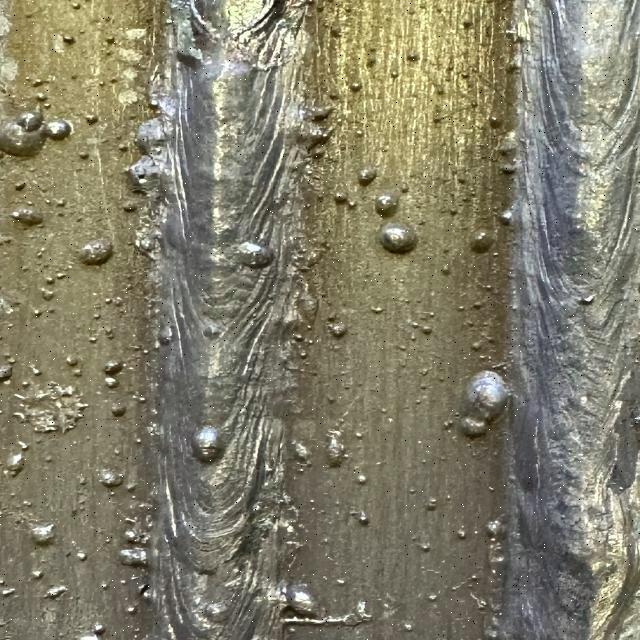Excess Reinforcement: (148, 0, 180, 127), (127, 115, 172, 198), (282, 601, 372, 626), (268, 581, 317, 618), (298, 105, 333, 150), (135, 215, 162, 260), (295, 235, 327, 272), (485, 518, 505, 573), (297, 282, 318, 324), (498, 131, 520, 156)
Spatters: (462, 370, 508, 421), (0, 121, 47, 156), (378, 222, 418, 254), (192, 425, 223, 462), (237, 241, 273, 269), (78, 239, 113, 265), (327, 430, 347, 468), (458, 416, 488, 438), (43, 119, 73, 140), (375, 191, 398, 218), (12, 205, 43, 225), (15, 110, 43, 131), (470, 229, 495, 252), (118, 548, 148, 567), (30, 524, 55, 545), (98, 469, 125, 487), (5, 451, 23, 476), (358, 166, 377, 186), (65, 355, 83, 376), (123, 529, 150, 543), (203, 321, 223, 339), (294, 442, 312, 461), (103, 360, 123, 375), (470, 592, 487, 609), (329, 322, 347, 338), (45, 585, 67, 598), (350, 511, 370, 525), (498, 209, 515, 225), (0, 364, 13, 381), (578, 294, 597, 305), (488, 115, 502, 129), (112, 405, 127, 418), (3, 352, 17, 365), (148, 95, 160, 110), (333, 191, 348, 203), (500, 164, 517, 174), (105, 376, 118, 389), (93, 624, 107, 636), (425, 498, 437, 511), (330, 25, 342, 38), (457, 526, 467, 540), (62, 35, 75, 45), (407, 51, 420, 61), (85, 114, 98, 124), (17, 441, 30, 451), (320, 19, 333, 29), (312, 191, 325, 201), (348, 82, 362, 91), (31, 365, 42, 376), (15, 181, 27, 191), (0, 588, 15, 596), (297, 460, 312, 468), (127, 605, 138, 615), (462, 19, 473, 29), (78, 151, 90, 160), (55, 199, 67, 208), (328, 91, 340, 100), (420, 326, 433, 334), (77, 551, 87, 561), (442, 265, 452, 275), (127, 482, 137, 492), (347, 199, 357, 209), (32, 570, 43, 579), (370, 306, 383, 313), (35, 94, 48, 101), (357, 475, 367, 484), (470, 342, 480, 351), (420, 542, 430, 551), (436, 85, 445, 95), (355, 129, 365, 138), (293, 334, 305, 341), (70, 2, 82, 9), (404, 622, 413, 631), (88, 336, 98, 344), (37, 248, 45, 258), (460, 71, 470, 79), (472, 302, 482, 310), (45, 276, 55, 284), (287, 626, 297, 634), (328, 314, 338, 322), (32, 79, 43, 86), (328, 395, 337, 403), (33, 309, 43, 316), (22, 381, 32, 388), (410, 321, 420, 328), (100, 582, 108, 590), (390, 70, 398, 78), (105, 328, 113, 336), (300, 351, 308, 359), (470, 100, 478, 108), (448, 209, 457, 216), (113, 448, 122, 455), (43, 102, 52, 109), (23, 200, 35, 205), (57, 272, 67, 278), (20, 265, 30, 271), (22, 500, 32, 506), (428, 595, 438, 601), (420, 369, 428, 376), (355, 431, 363, 438), (470, 574, 478, 581), (450, 585, 459, 591), (45, 455, 52, 462), (445, 494, 452, 501), (402, 184, 408, 192), (408, 489, 417, 494), (135, 438, 142, 444), (345, 6, 352, 12), (105, 298, 113, 303), (337, 579, 345, 584), (420, 384, 428, 389), (297, 468, 305, 473), (24, 75, 30, 81), (458, 306, 465, 311), (98, 81, 105, 86), (428, 312, 435, 317), (415, 399, 422, 404), (120, 580, 127, 585), (408, 9, 415, 14), (317, 6, 323, 11), (110, 491, 115, 496), (305, 202, 310, 207), (382, 408, 387, 413), (337, 119, 343, 123), (45, 199, 50, 203), (132, 495, 137, 499), (422, 459, 427, 463), (308, 340, 313, 344), (307, 325, 312, 329), (310, 500, 315, 503)
